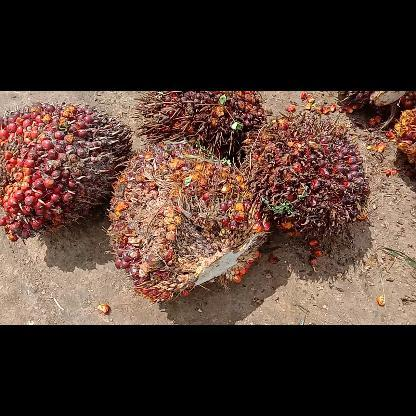TBS masak: (106, 142, 270, 302), (0, 101, 131, 241), (241, 110, 369, 238), (133, 90, 265, 156)
